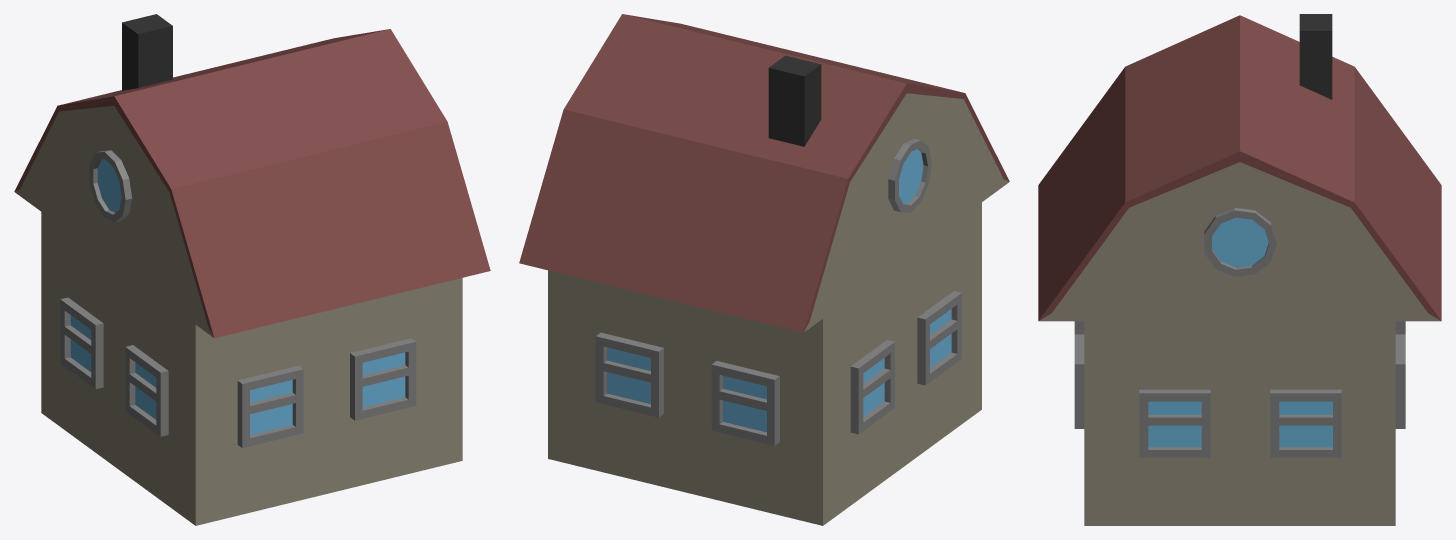
Rendered from Home.fbx.
3 renders of one model, left to right at view 1: azimuth 30°, elevation 25°; view 2: azimuth 150°, elevation 25°; view 3: azimuth 270°, elevation 25°, orthographic. The views are drawn at different scales.
Visible parts, largest first — view 1: sf.001, sf, sfsf; view 2: sf.001, sf, sfsf; view 3: sf.001, sf, sfsf.
Part boxes in pixels (x1,y1,x2,y2): sf.001: [14, 29, 490, 525]; sf: [60, 150, 416, 447]; sfsf: [122, 14, 172, 90]; sf.001: [519, 14, 1009, 525]; sf: [595, 138, 961, 445]; sfsf: [768, 55, 821, 146]; sf.001: [1038, 15, 1441, 525]; sf: [1074, 207, 1405, 457]; sfsf: [1299, 14, 1332, 99].
Size of the model in its own units: 293 by 389 by 352.
